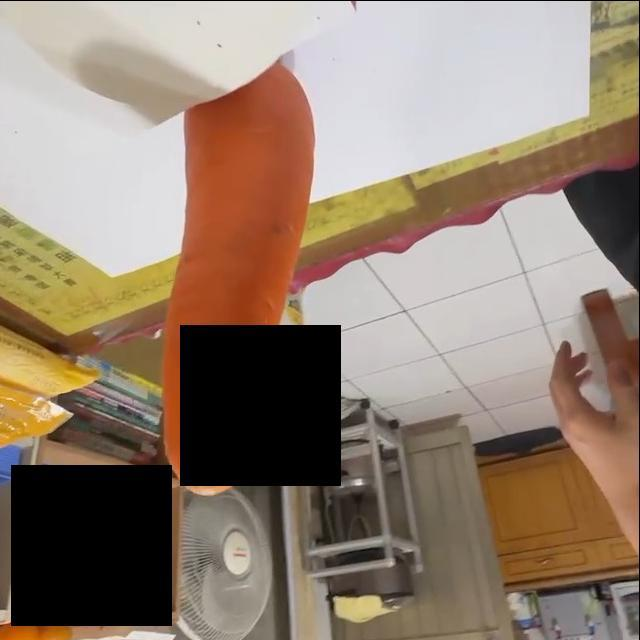carrot: (164, 63, 318, 496)
